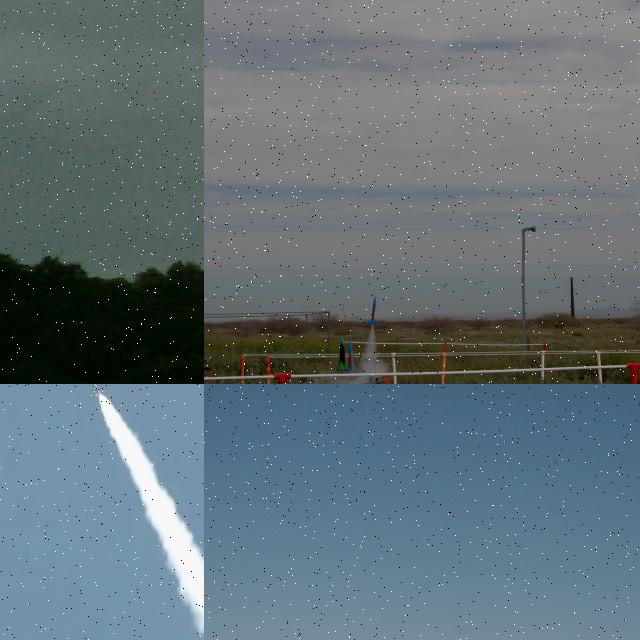Rocket: (335, 335, 349, 373), (366, 296, 381, 325), (347, 340, 360, 372), (92, 384, 101, 398)
